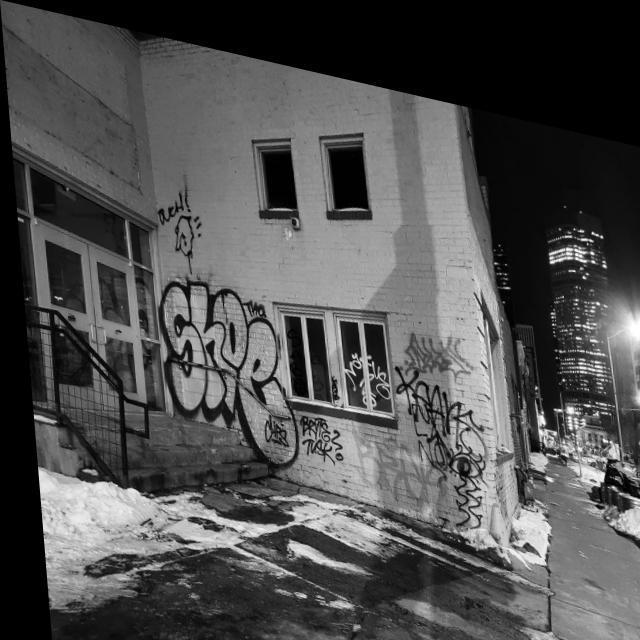-: (150, 240, 296, 462), (388, 313, 490, 521), (331, 317, 389, 405), (149, 170, 195, 256), (288, 396, 345, 464), (250, 393, 282, 442), (236, 276, 264, 315), (318, 352, 342, 395)
